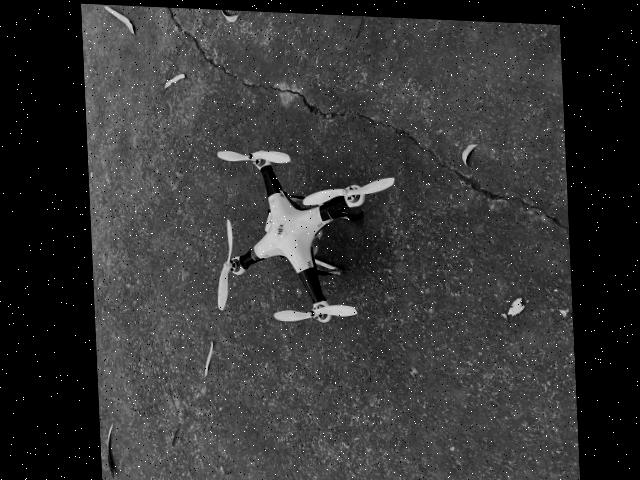drone: (143, 51, 440, 406)
